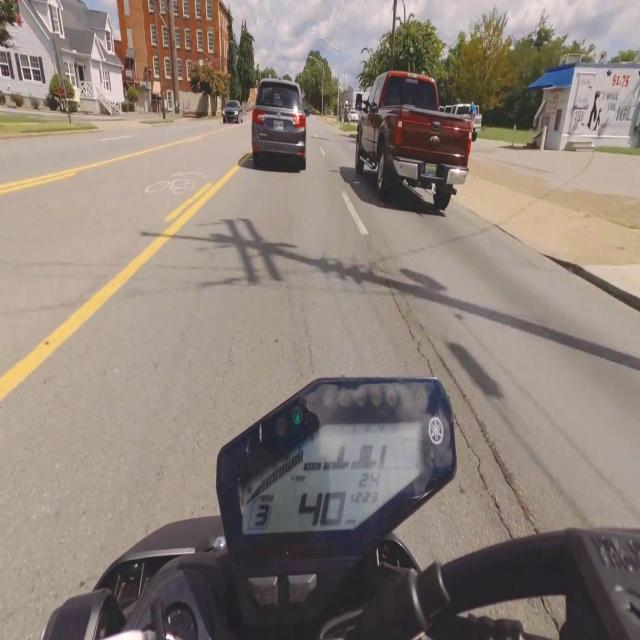car: (351, 69, 477, 211), (252, 79, 306, 170), (223, 101, 242, 123)
motorcycle: (42, 378, 639, 639)
